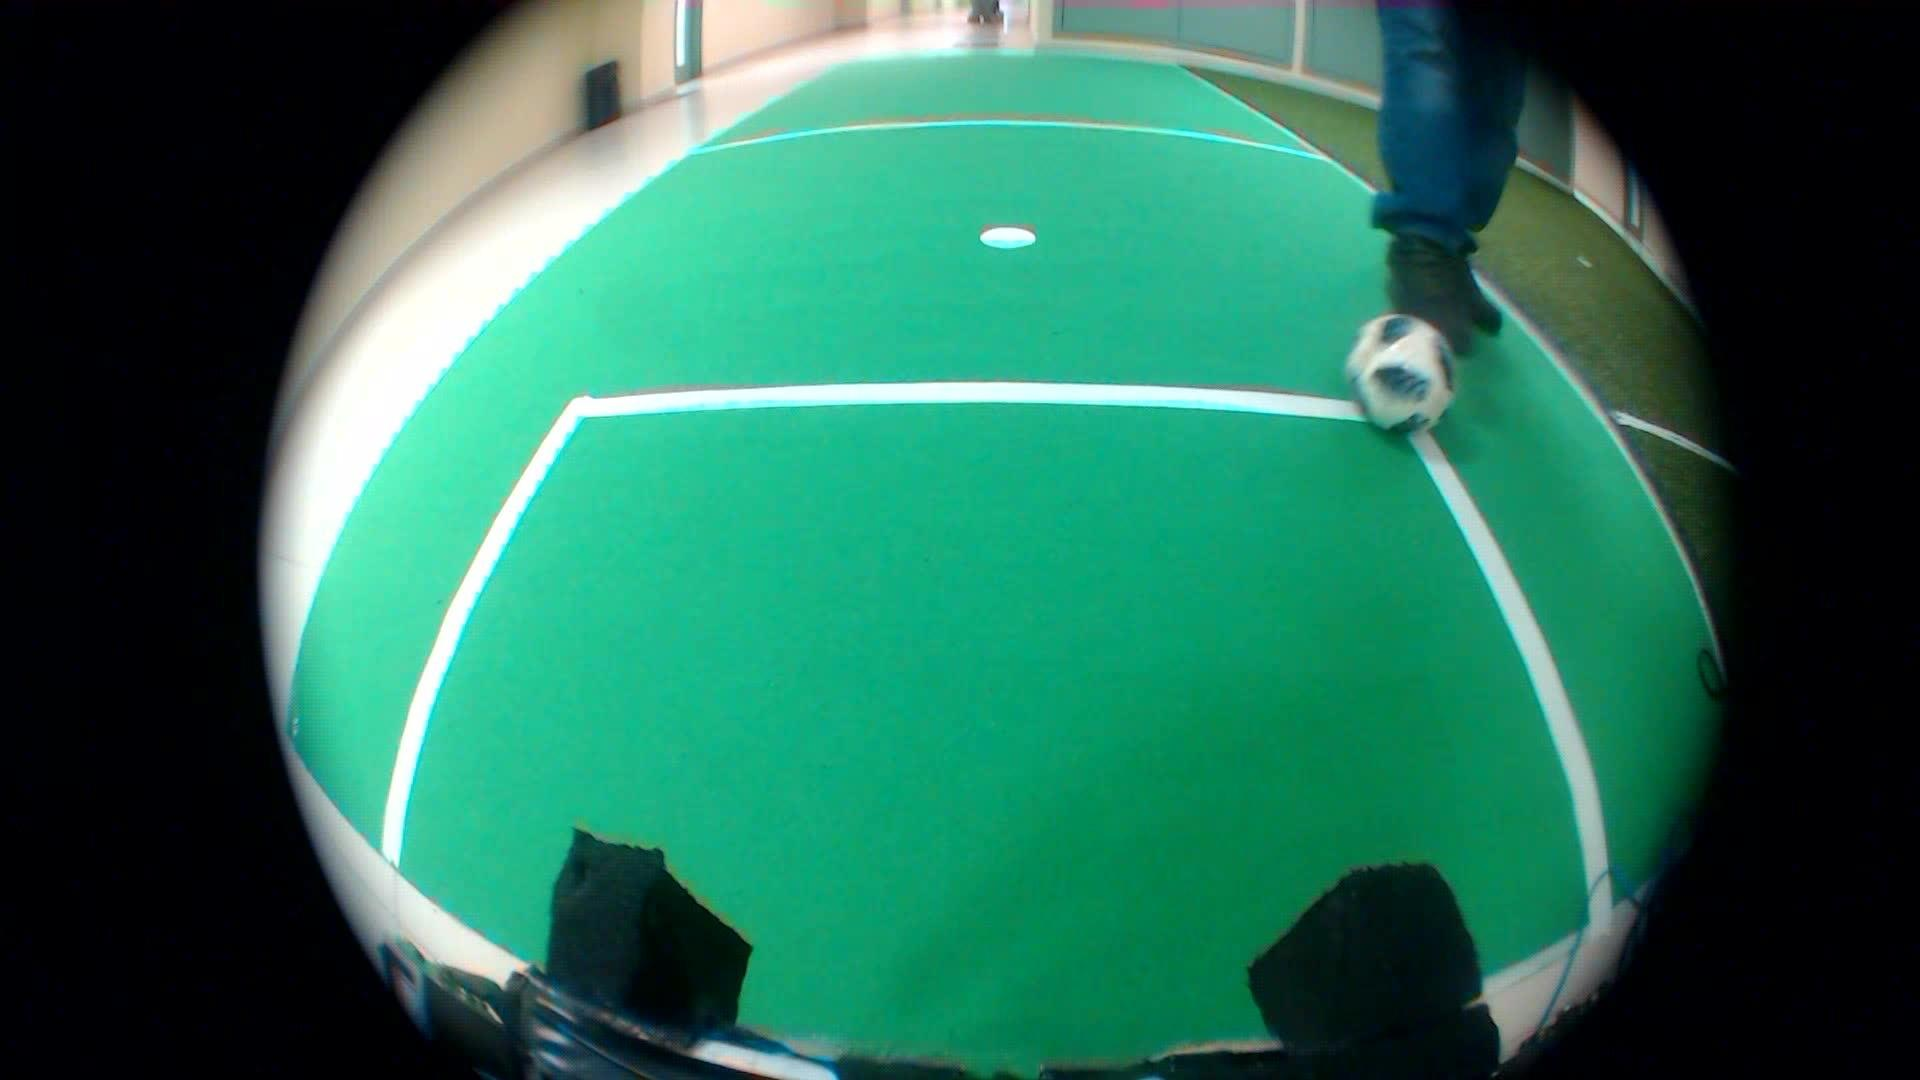ball: (1344, 318, 1461, 448)
